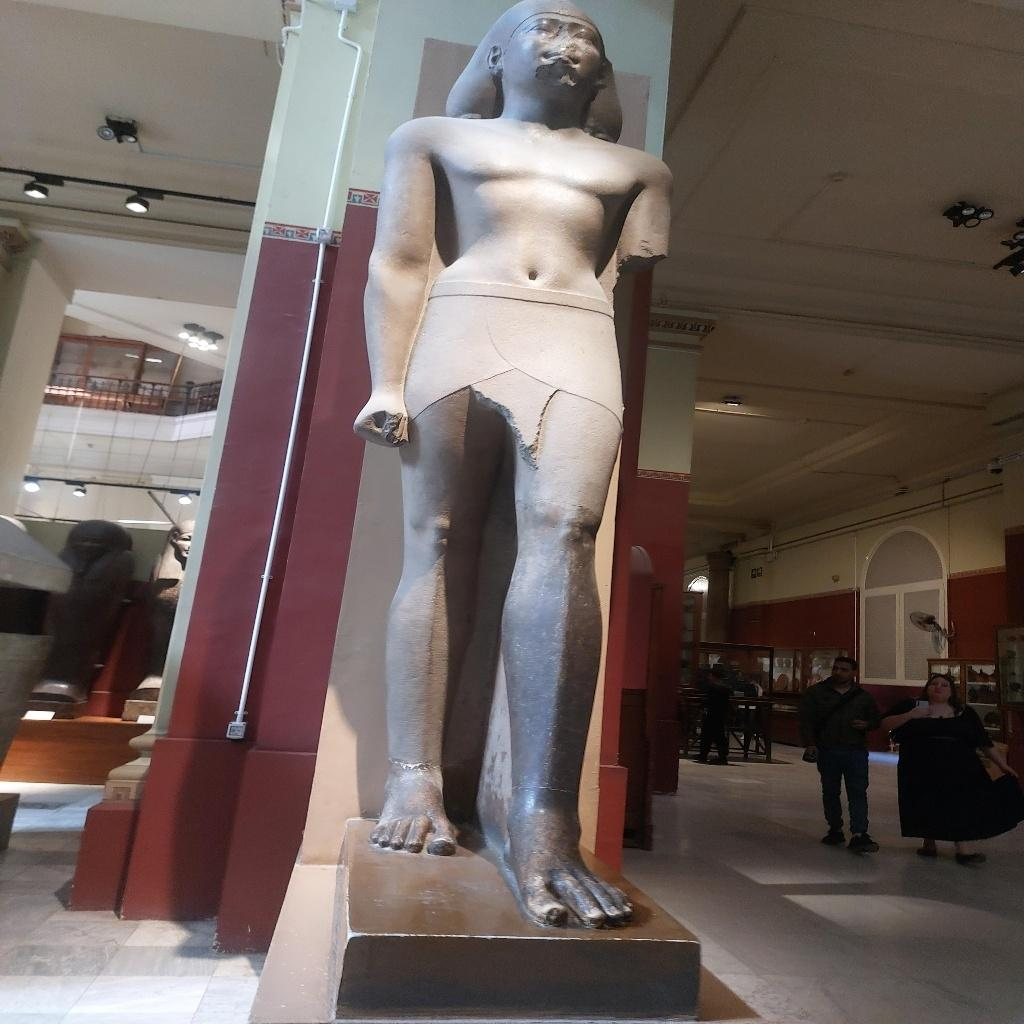Colossal Statue of Hormoheb: (345, 2, 679, 934)
